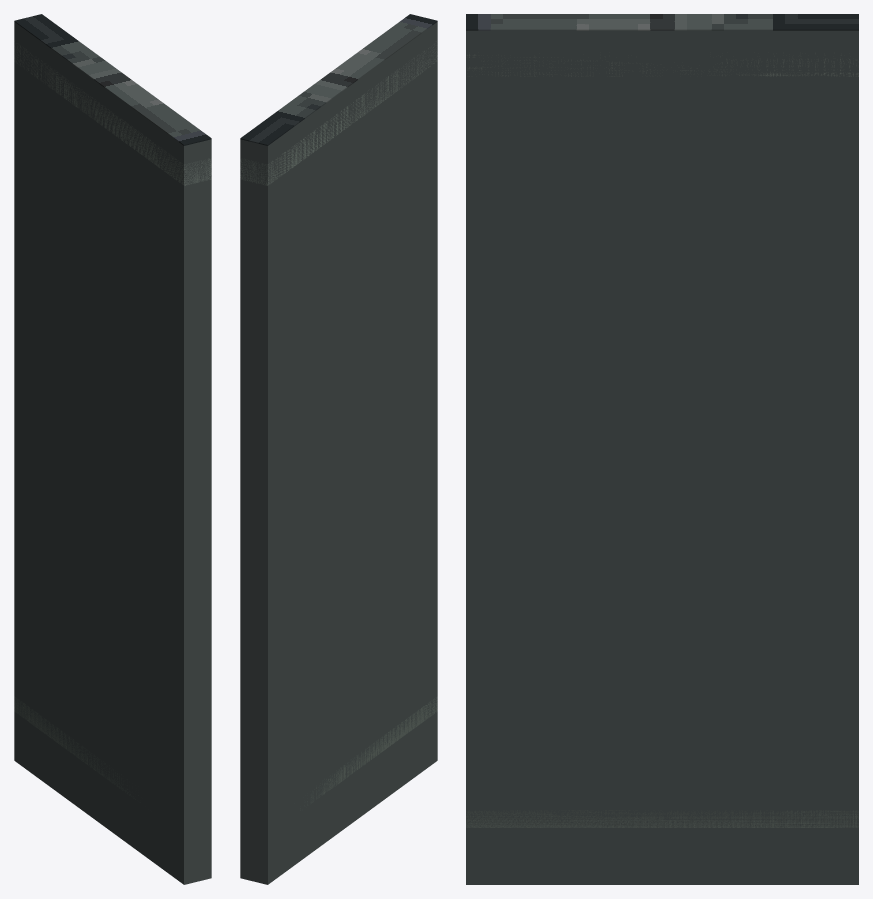
File: CMU3DInteriorVehicleTankFront1.glb
The picture shows the model from 3 angles, left to right: view 1: azimuth 30°, elevation 25°; view 2: azimuth 150°, elevation 25°; view 3: azimuth 270°, elevation 25°; orthographic projection. The views are drawn at different scales.
Parts seen in each view (by area): view 1: cabin bulkhead, cabin bulkhead source finish, upper armor trim, lower armor trim; view 2: cabin bulkhead, cabin bulkhead source finish, upper armor trim, lower armor trim; view 3: cabin bulkhead, cabin bulkhead source finish, lower armor trim.
Part boxes in pixels (x1=…): cabin bulkhead: x1=14, y1=22, x2=211, y2=884; cabin bulkhead source finish: x1=14, y1=14, x2=211, y2=145; upper armor trim: x1=14, y1=41, x2=211, y2=185; lower armor trim: x1=14, y1=696, x2=140, y2=802; cabin bulkhead: x1=240, y1=22, x2=437, y2=884; cabin bulkhead source finish: x1=240, y1=14, x2=437, y2=145; upper armor trim: x1=240, y1=41, x2=437, y2=185; lower armor trim: x1=300, y1=696, x2=437, y2=810; cabin bulkhead: x1=466, y1=30, x2=858, y2=884; cabin bulkhead source finish: x1=466, y1=14, x2=858, y2=30; lower armor trim: x1=466, y1=810, x2=858, y2=827.
Bounding box in the file's own units: 0.0938 × 2.4 × 1.
Materials: 4 (1 with a texture image).
